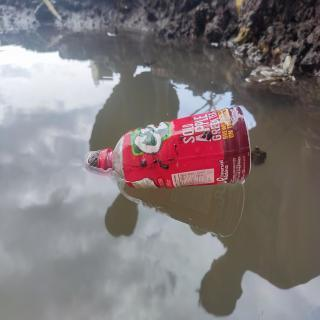bottle: (82, 104, 255, 192)
